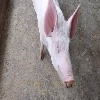heo: (38, 1, 82, 89)
